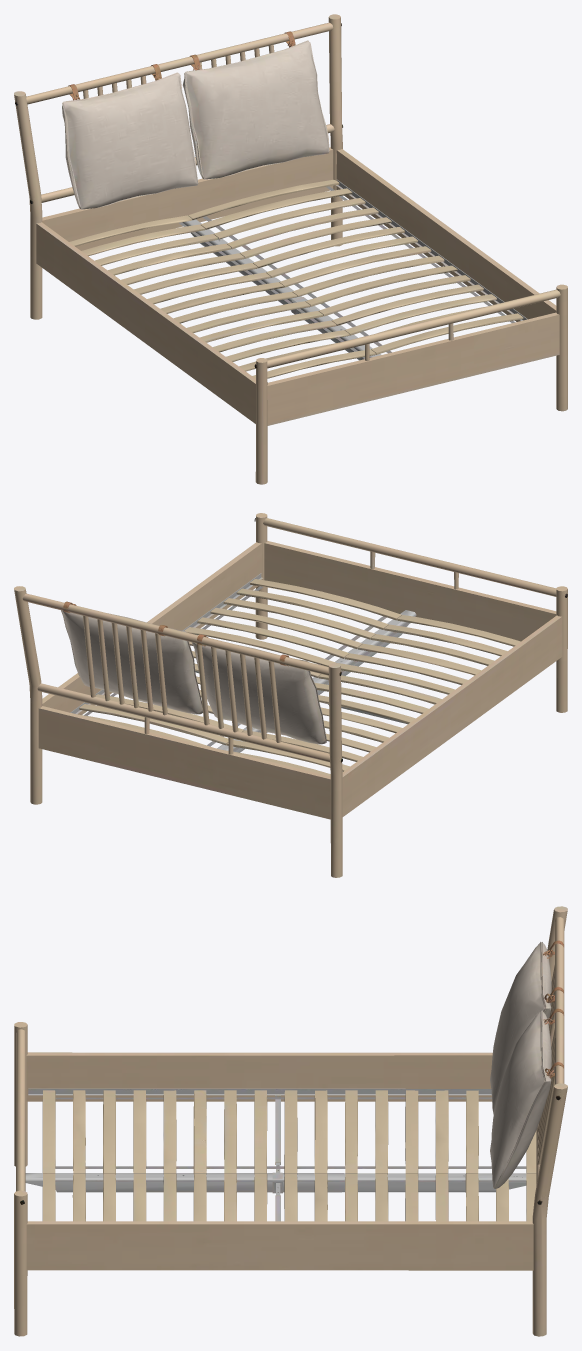
3 renders of one model, top to bottom at view 1: azimuth 30°, elevation 25°; view 2: azimuth 150°, elevation 25°; view 3: azimuth 270°, elevation 25°, orthographic. The views are drawn at different scales.
Parts seen in each view (by area): view 1: geo1; view 2: geo1; view 3: geo1.
Part boxes in pixels (x1,y1,x2,y2): geo1: (14, 14, 567, 484); geo1: (14, 513, 567, 877); geo1: (14, 906, 567, 1336).
Size of the model in its own units: 1.7 by 1.09 by 2.18.
Materials: 2 (2 with a texture image).
